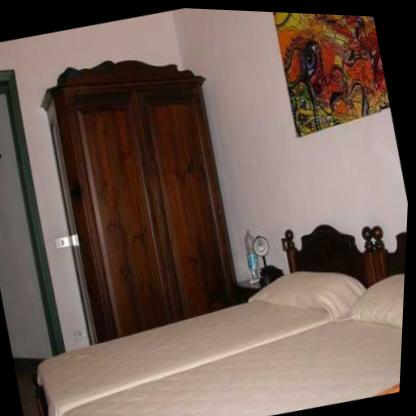Bed: (9, 191, 409, 416)
Closet: (24, 32, 262, 345)
